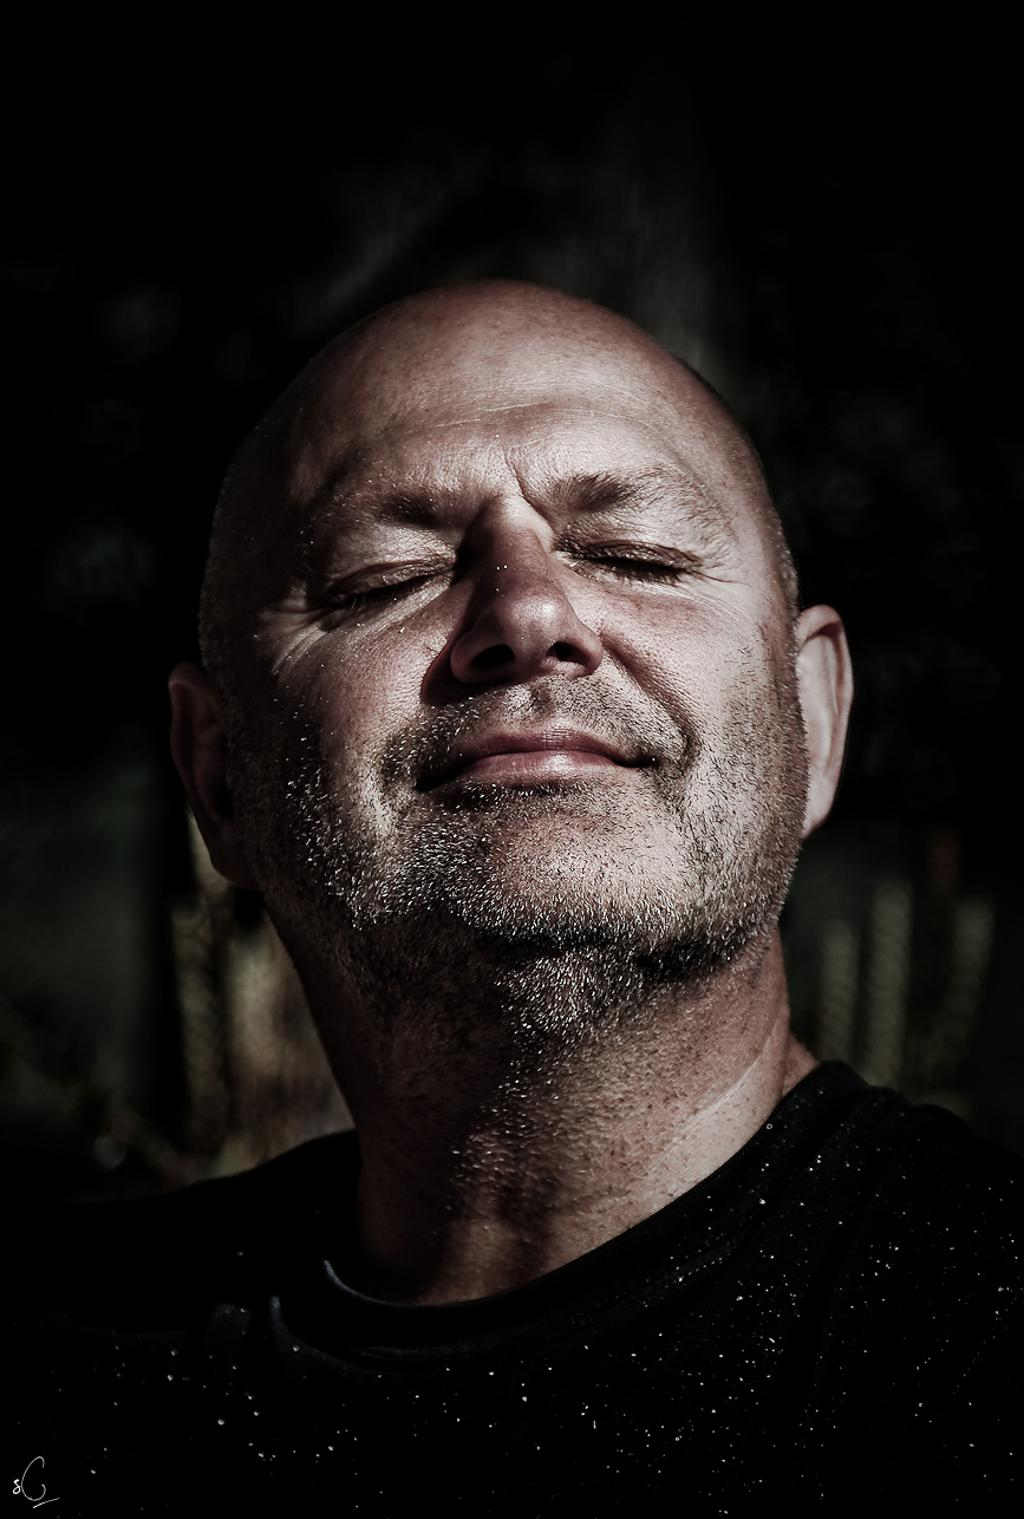face: (232, 312, 808, 953)
